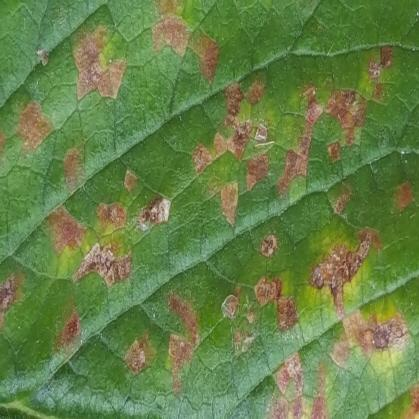Angular Leafspot: (0, 0, 418, 418)
